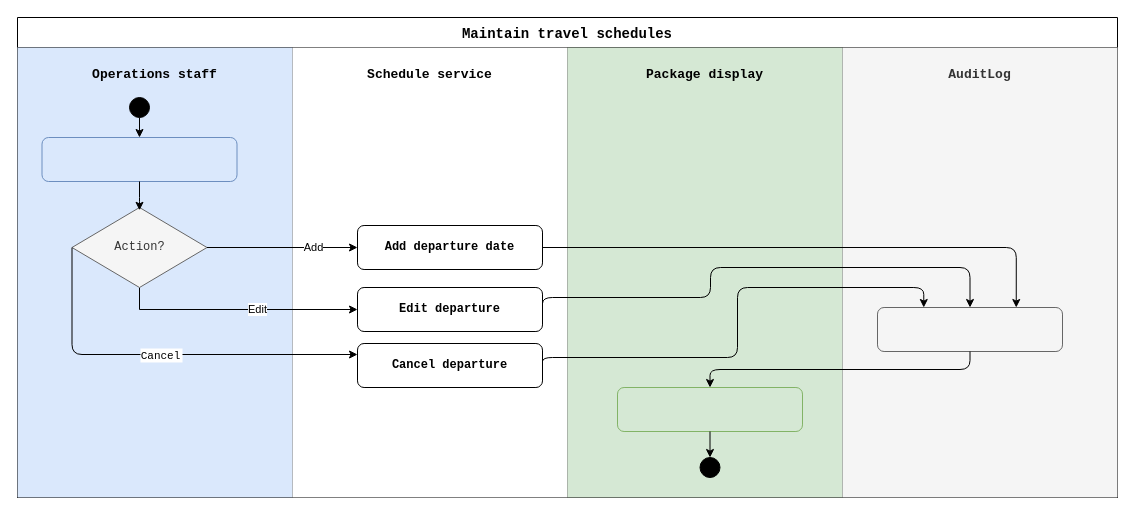
This 1135x515 diagram has some shape labels left out. Here are the shapes that lost their labels. From the top down, the box of each, then its label:
(41, 136, 237, 182): Open schedule module
(876, 306, 1062, 352): Update schedule
(616, 386, 802, 432): Reflect change in package displays
